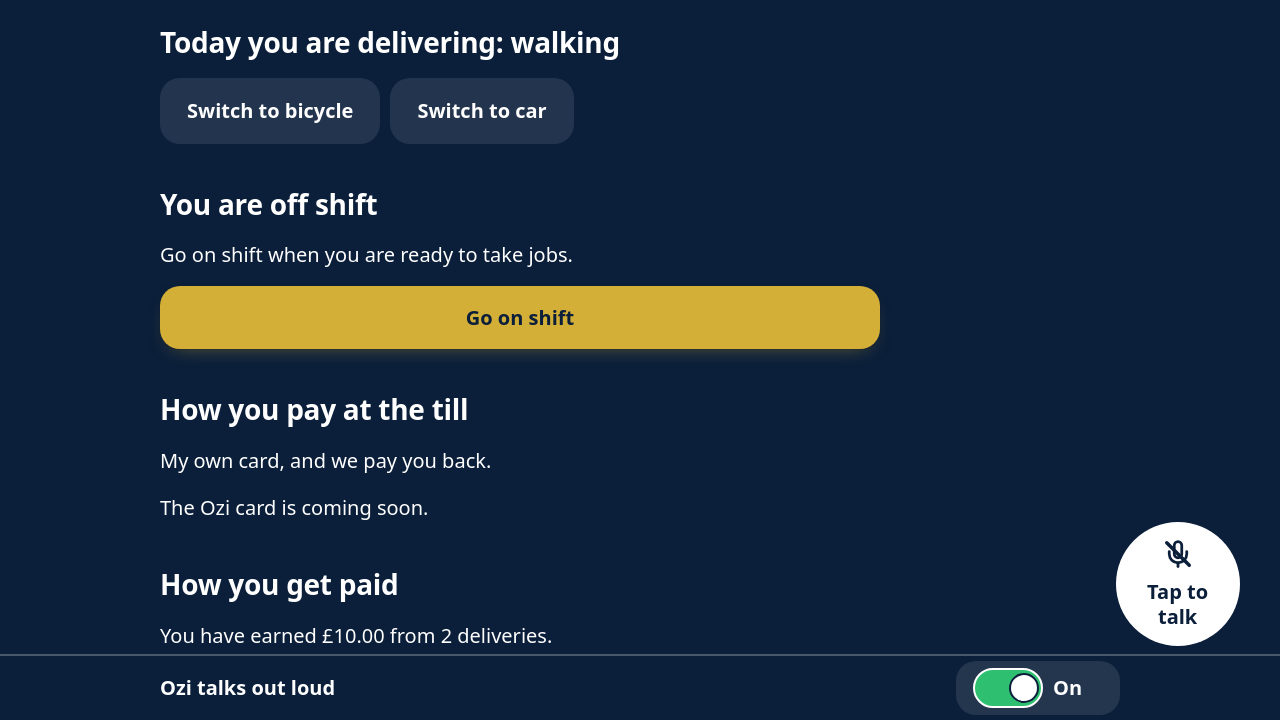
a Runner page › goes on shift, is offered a job as an alert, and sees a summary without the address
The image size is (1280, 720).
(page scrolled)
Click the button "Go on shift" at (520, 318), box [160,286,880,349]
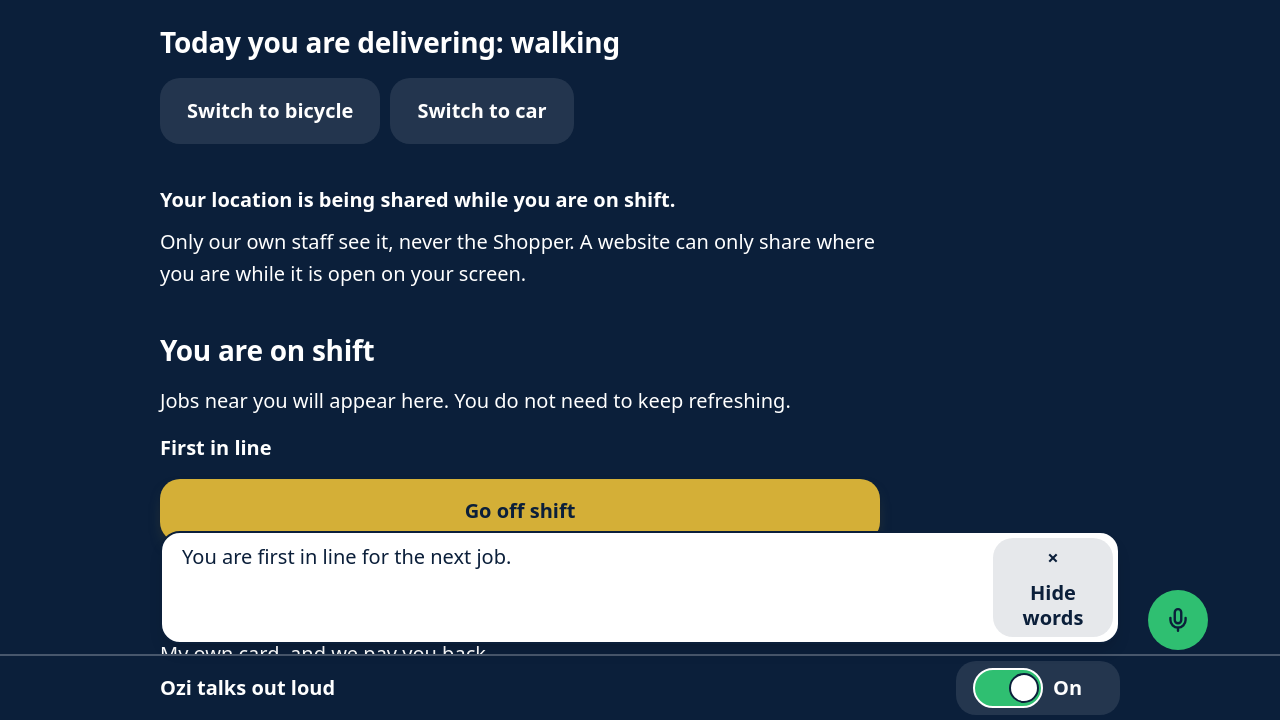
Expected: the heading "You are on shift" is shown, [160,331,374,369]
Click the button "Go off shift" at (520, 511), box [160,479,880,542]
(page scrolled)
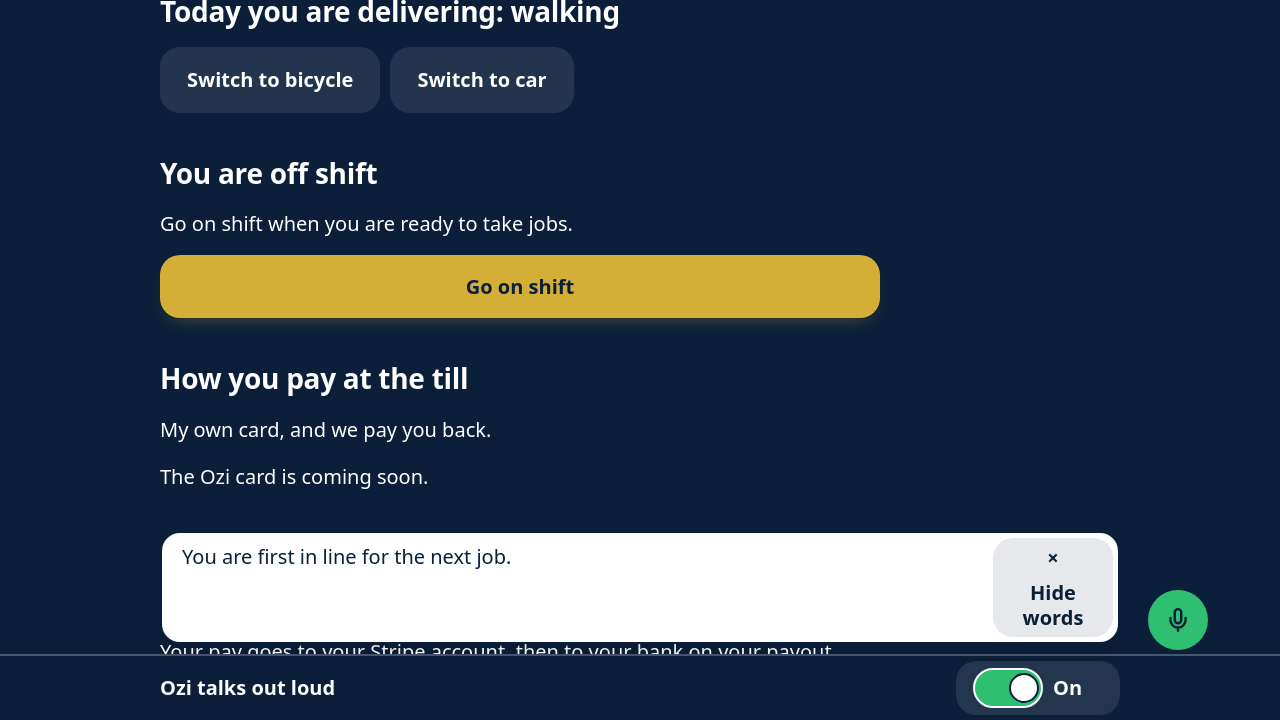
Click the button "Go on shift" at (520, 287), box [160,255,880,318]
(page scrolled)
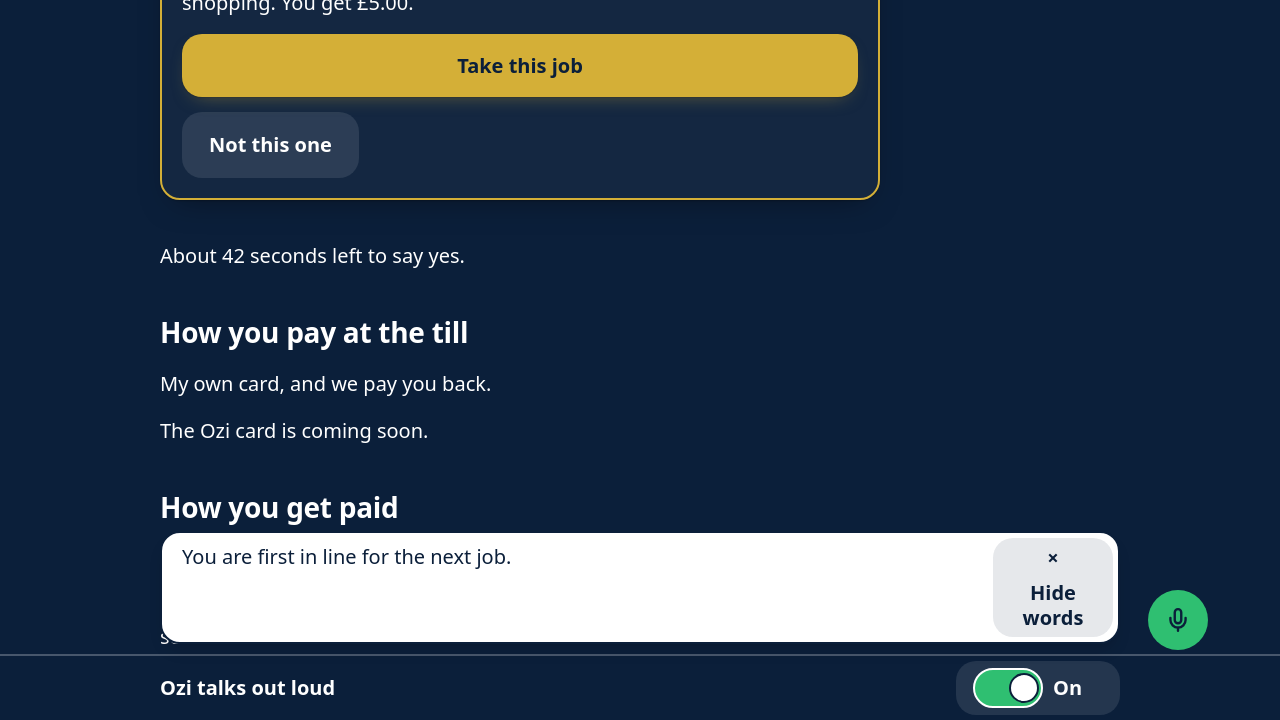
Expected: the text "About 42 seconds left to say yes." is shown, [160,242,465,269]
